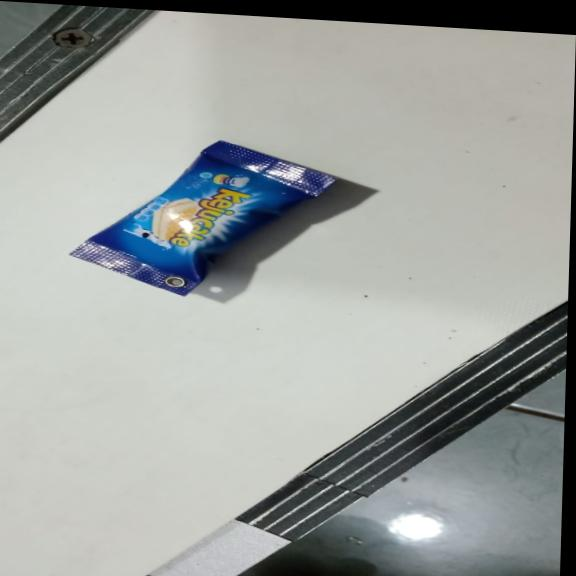Plastik: (66, 129, 341, 305)
